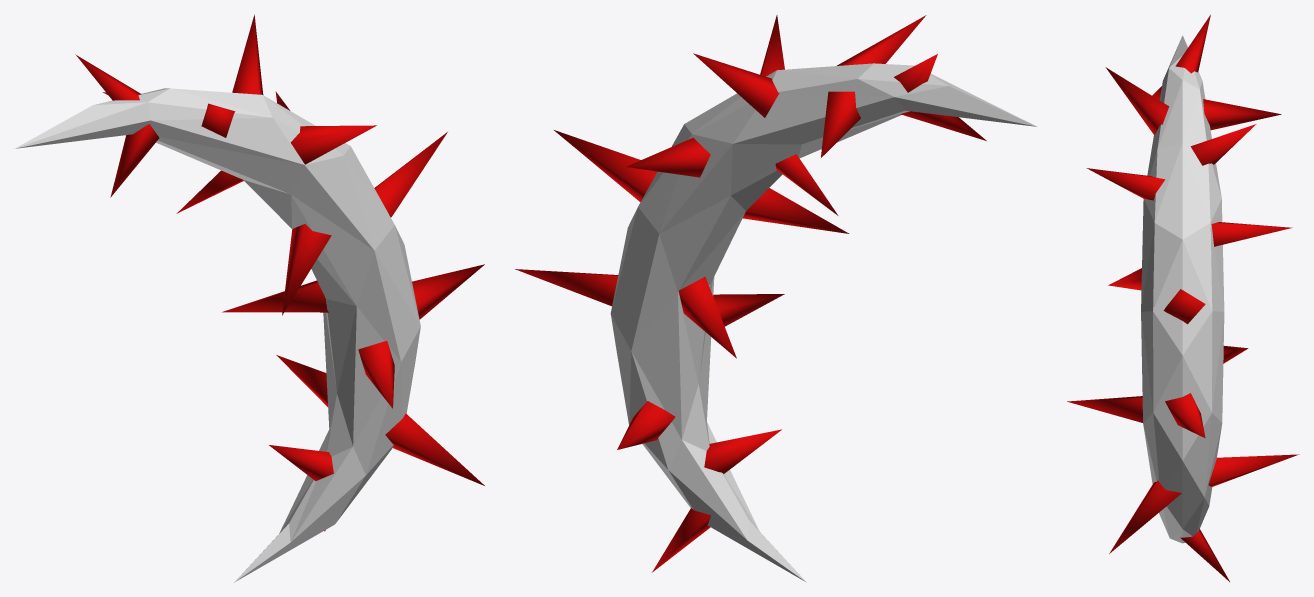
File: Bramble_08.fbx
3 renders of one model, left to right at view 1: azimuth 30°, elevation 25°; view 2: azimuth 150°, elevation 25°; view 3: azimuth 270°, elevation 25°, orthographic. The views are drawn at different scales.
Visible parts, largest first — view 1: Bramble_08; view 2: Bramble_08; view 3: Bramble_08.
Boxes of the visible parts, x1,y1,x2,y2 form: Bramble_08: [14, 14, 484, 582]; Bramble_08: [515, 15, 1037, 582]; Bramble_08: [1067, 14, 1299, 581].
Bounding box in the file's own units: 1.24 × 1.34 × 0.614.
